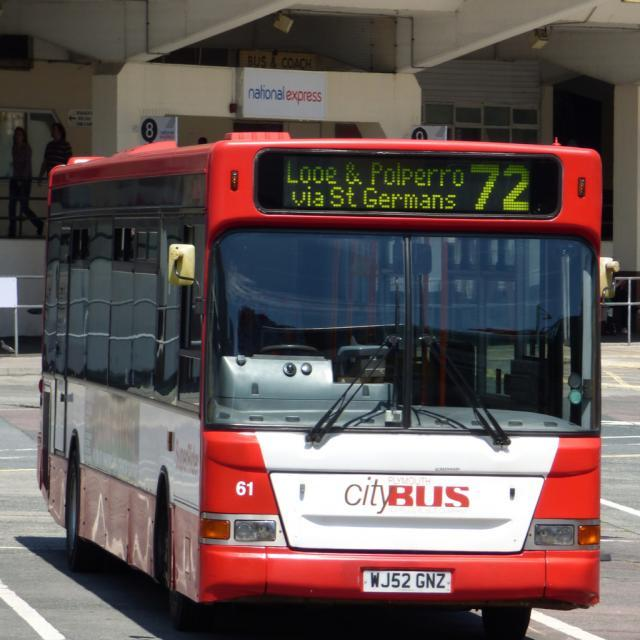motorcycle: (32, 130, 620, 639)
